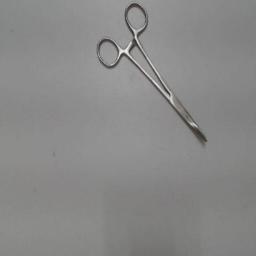Crile Artery Forceps: (95, 0, 213, 148)
